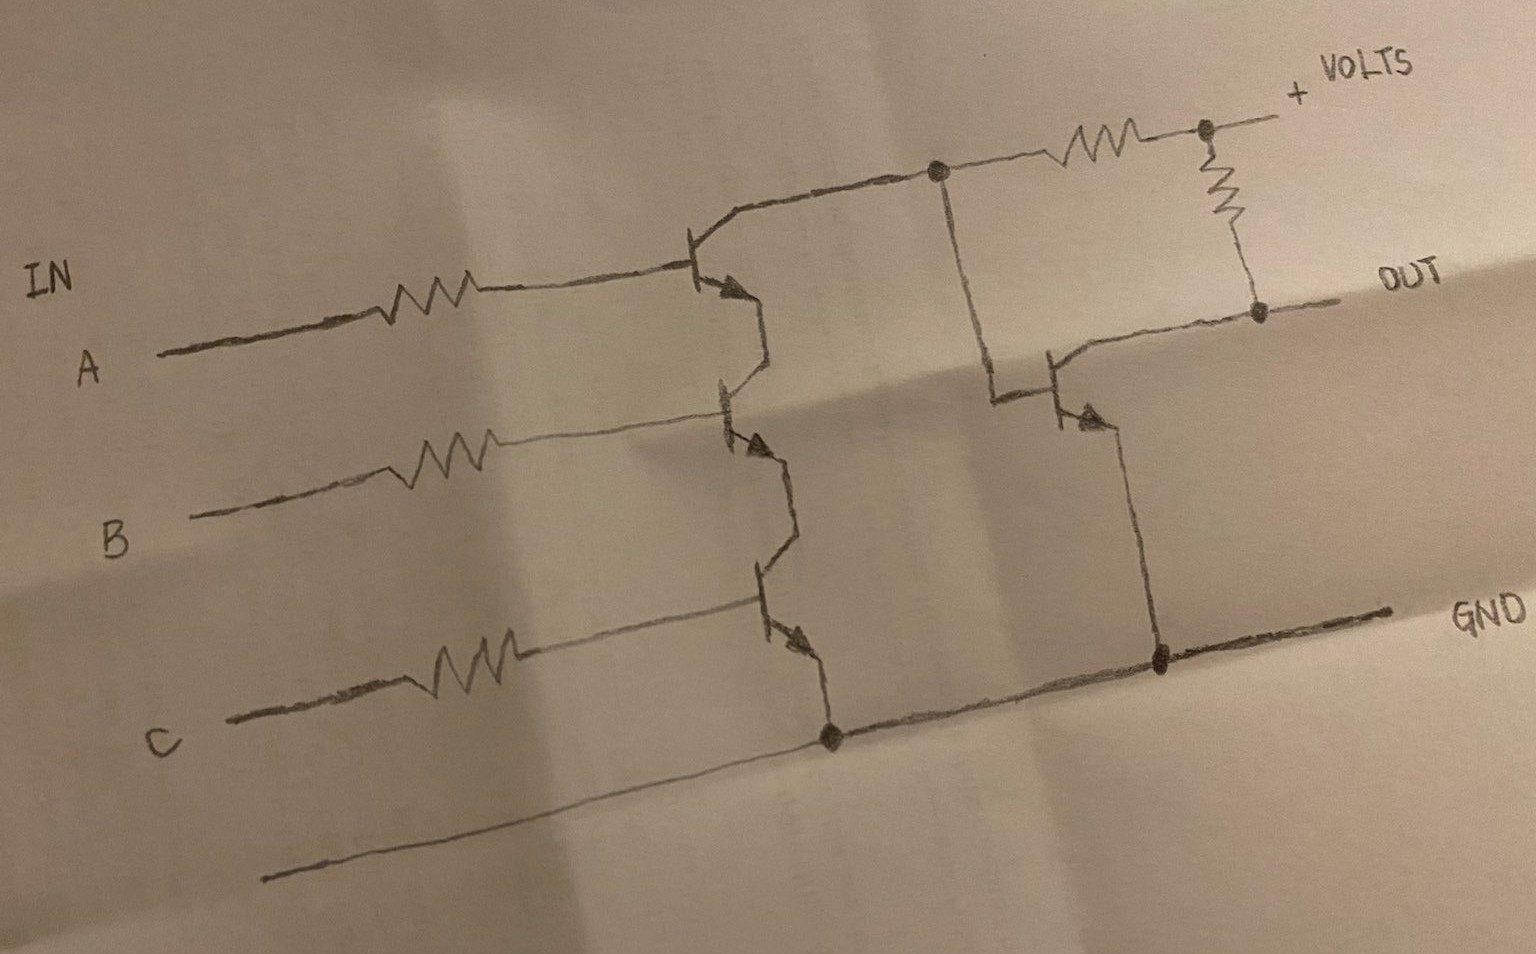junction: (805, 709, 866, 764), (915, 148, 971, 192), (1139, 636, 1187, 687), (1187, 103, 1229, 146), (1242, 291, 1282, 334)
resistor: (396, 621, 534, 708), (377, 422, 514, 492), (356, 264, 496, 330), (1022, 111, 1162, 175), (1193, 149, 1264, 230)
terminal: (254, 866, 279, 892), (1378, 599, 1401, 623), (1326, 290, 1350, 313), (1267, 107, 1284, 127), (183, 509, 202, 526), (219, 713, 236, 732), (151, 346, 167, 363)
text: (1447, 588, 1533, 643), (1318, 43, 1415, 85), (19, 252, 84, 306), (1373, 249, 1448, 295), (69, 344, 110, 396), (94, 508, 131, 565), (140, 719, 183, 761), (1285, 74, 1310, 109)
transistor: (724, 518, 852, 673), (695, 348, 830, 476), (666, 195, 799, 312), (1032, 328, 1160, 447)
